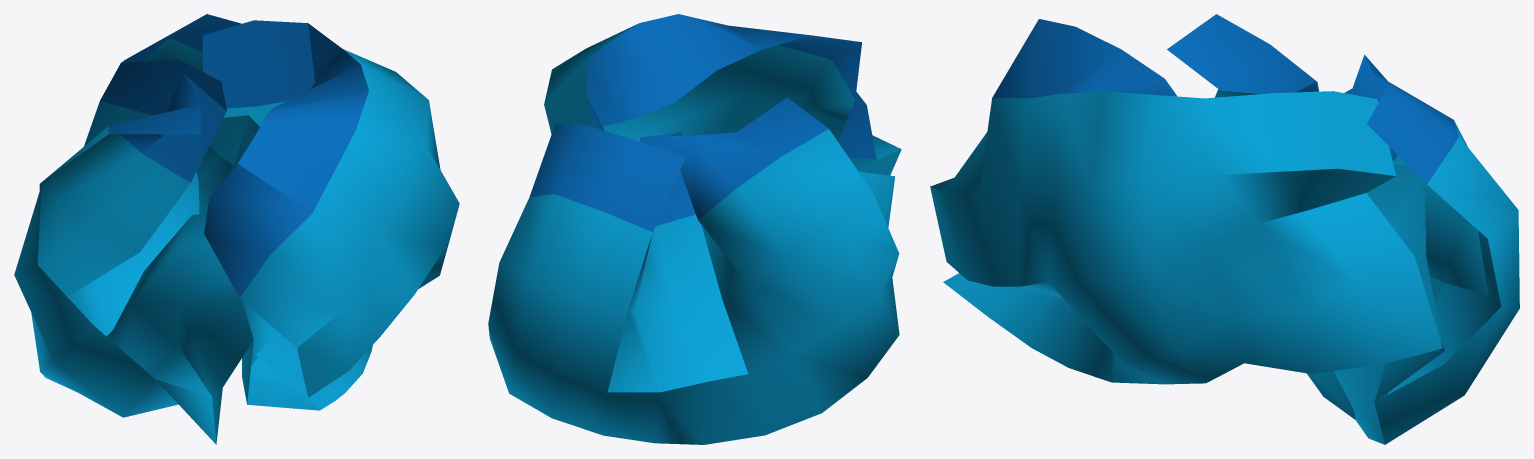
The model's file is CandyWrapper008.glb.
3 views of the same model, side by side, from view 1: azimuth 30°, elevation 25°; view 2: azimuth 150°, elevation 25°; view 3: azimuth 270°, elevation 25° (orthographic). The views are drawn at different scales.
Parts seen in each view (by area): view 1: CandyWrapper008; view 2: CandyWrapper008; view 3: CandyWrapper008.
Part boxes in pixels (x1,y1,x2,y2): CandyWrapper008: (14,14,459,444); CandyWrapper008: (488,14,901,444); CandyWrapper008: (930,14,1519,444).
Size of the model in its own units: 0.1926 by 0.1626 by 0.2397.
